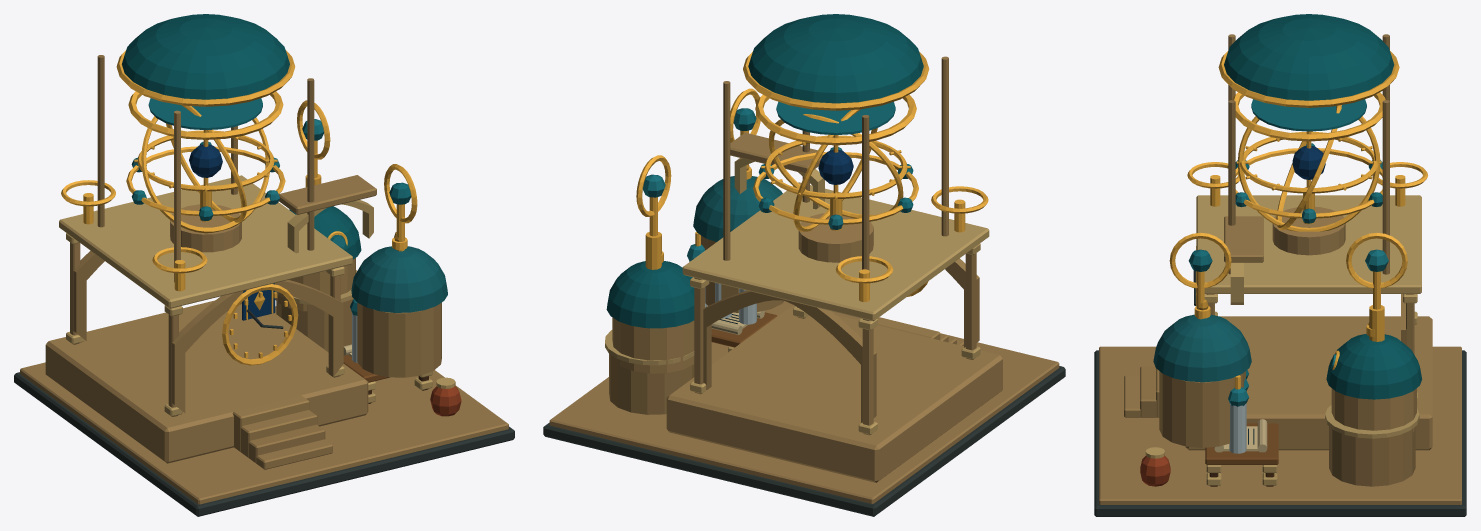
3 views of the same model, side by side, from view 1: azimuth 30°, elevation 25°; view 2: azimuth 150°, elevation 25°; view 3: azimuth 270°, elevation 25° (orthographic). The views are drawn at different scales.
Visible parts, largest first — view 1: laboratory_level12_structure, laboratory_level12_metal; view 2: laboratory_level12_structure, laboratory_level12_metal; view 3: laboratory_level12_structure, laboratory_level12_metal.
Boxes of the visible parts, x1,y1,x2,y2 form: laboratory_level12_structure: [14, 14, 514, 516]; laboratory_level12_metal: [61, 50, 417, 365]; laboratory_level12_structure: [543, 14, 1065, 516]; laboratory_level12_metal: [636, 51, 988, 302]; laboratory_level12_structure: [1094, 14, 1466, 516]; laboratory_level12_metal: [1169, 51, 1427, 389].
Bounding box in the file's own units: 5.6 × 6.46 × 5.6.
